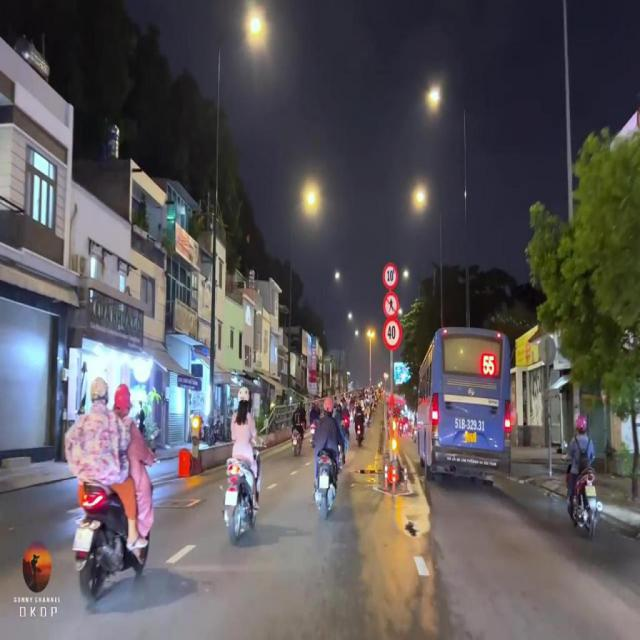khac: (382, 261, 400, 289), (382, 292, 400, 318)
toc_do_toi_da_40: (383, 316, 403, 351)
